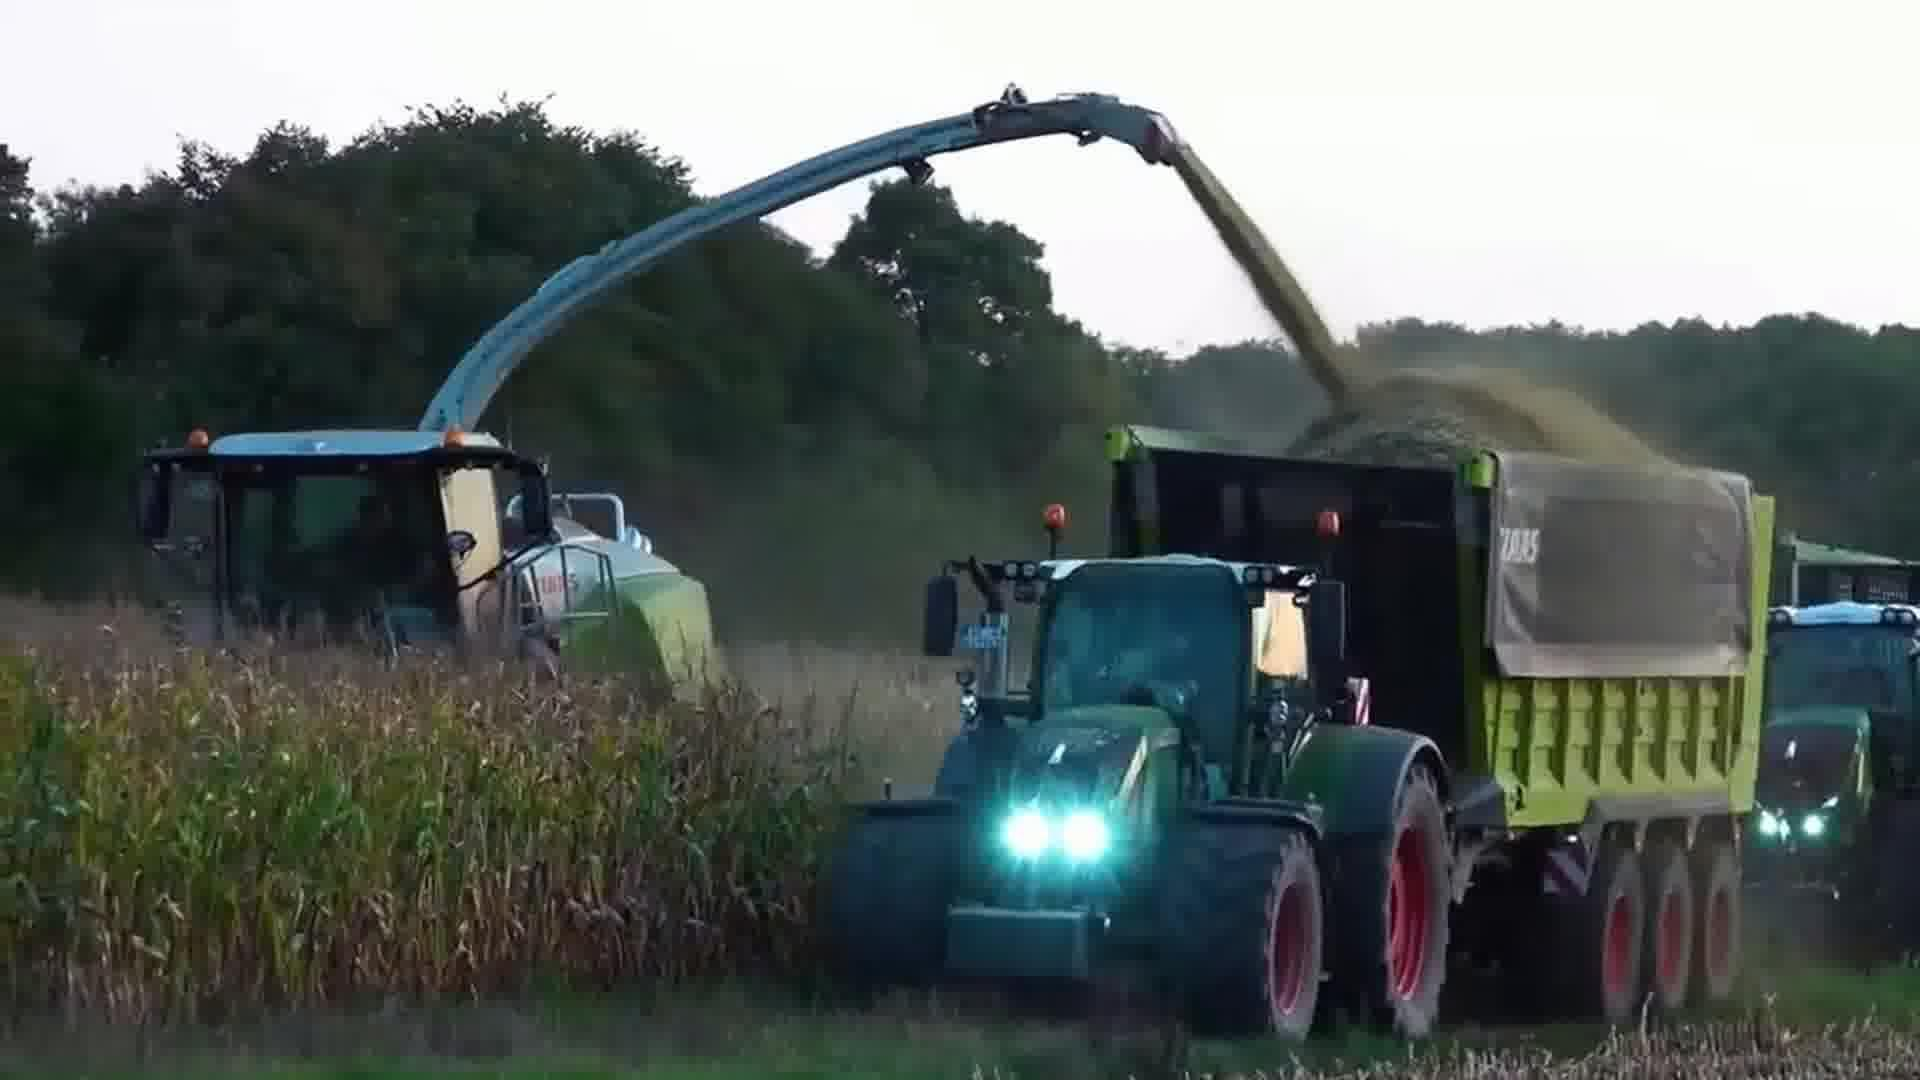combine harvester: (125, 79, 1193, 767)
tractor: (818, 502, 1468, 1063), (1755, 605, 1920, 990)
trailer: (1096, 375, 1749, 1014)
